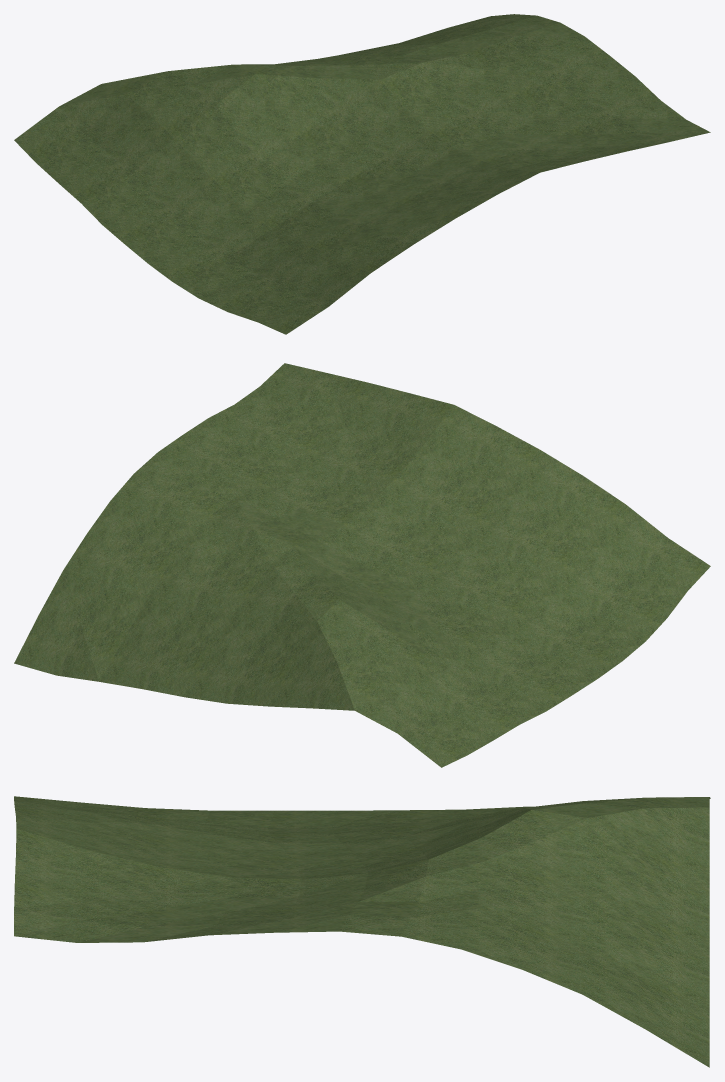
File: a_carisle_mid_landmass_02_03.fbx
The picture shows the model from 3 angles, top to bottom: view 1: azimuth 30°, elevation 25°; view 2: azimuth 150°, elevation 25°; view 3: azimuth 270°, elevation 25°; orthographic projection. The views are drawn at different scales.
Visible parts, largest first — view 1: a_carisle_mid_landmass_02_03; view 2: a_carisle_mid_landmass_02_03; view 3: a_carisle_mid_landmass_02_03.
Boxes of the visible parts, box(x1,y1,x2,y2) form: a_carisle_mid_landmass_02_03: box(14, 14, 710, 334); a_carisle_mid_landmass_02_03: box(14, 363, 710, 767); a_carisle_mid_landmass_02_03: box(14, 796, 710, 1067).
Bounding box in the file's own units: 21 × 22.44 × 5.49.
